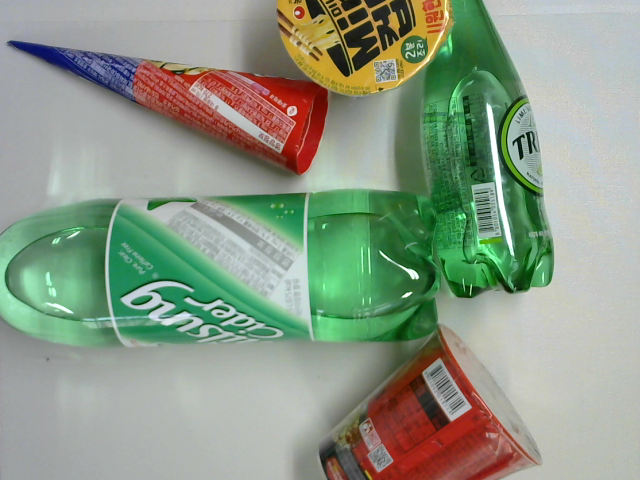Chilseong_Cider_1.5L: (1, 188, 439, 347)
Hejangmini: (277, 1, 452, 98)
Sinramen_small: (313, 325, 544, 480)
Treviraim_500ml: (419, 1, 552, 297)
World_Cone_Banila: (7, 41, 328, 176)
